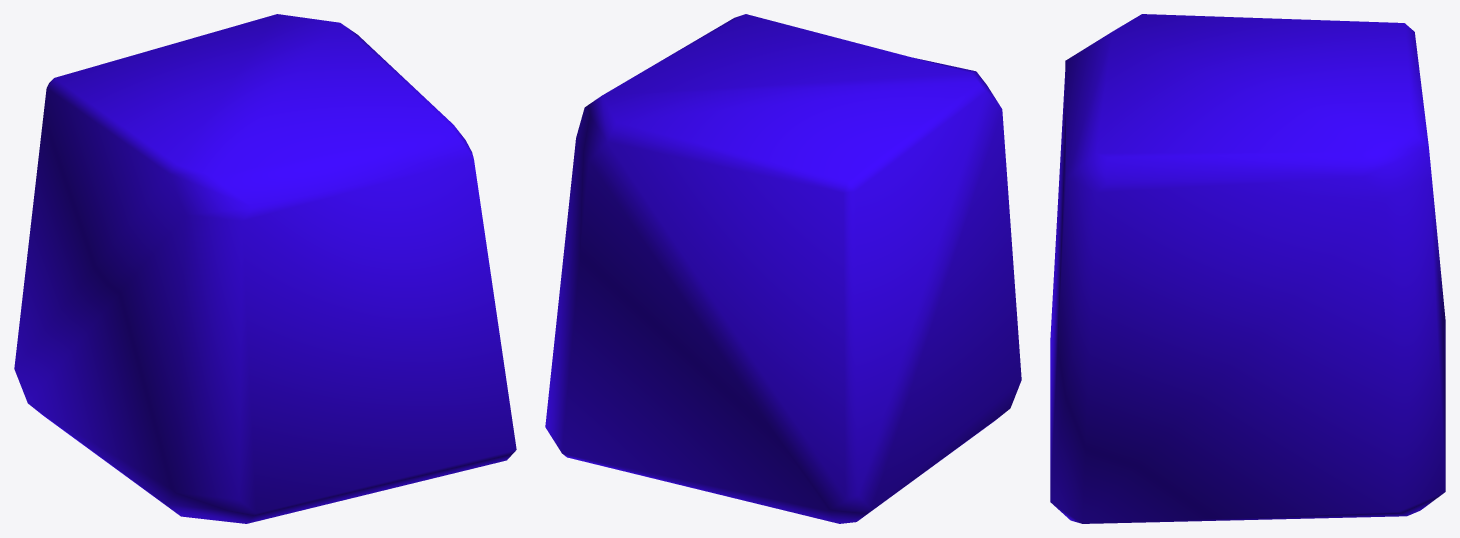
Rendered from ice_cube_low.FBX.
3 views of the same model, side by side, from view 1: azimuth 30°, elevation 25°; view 2: azimuth 150°, elevation 25°; view 3: azimuth 270°, elevation 25° (orthographic). The views are drawn at different scales.
Parts seen in each view (by area): view 1: ice; view 2: ice; view 3: ice.
Part boxes in pixels (left/top/right/bottom): ice: left=14, top=14, right=516, bottom=523; ice: left=545, top=14, right=1021, bottom=523; ice: left=1050, top=14, right=1445, bottom=523.
Size of the model in its own units: 157 by 157 by 157.
